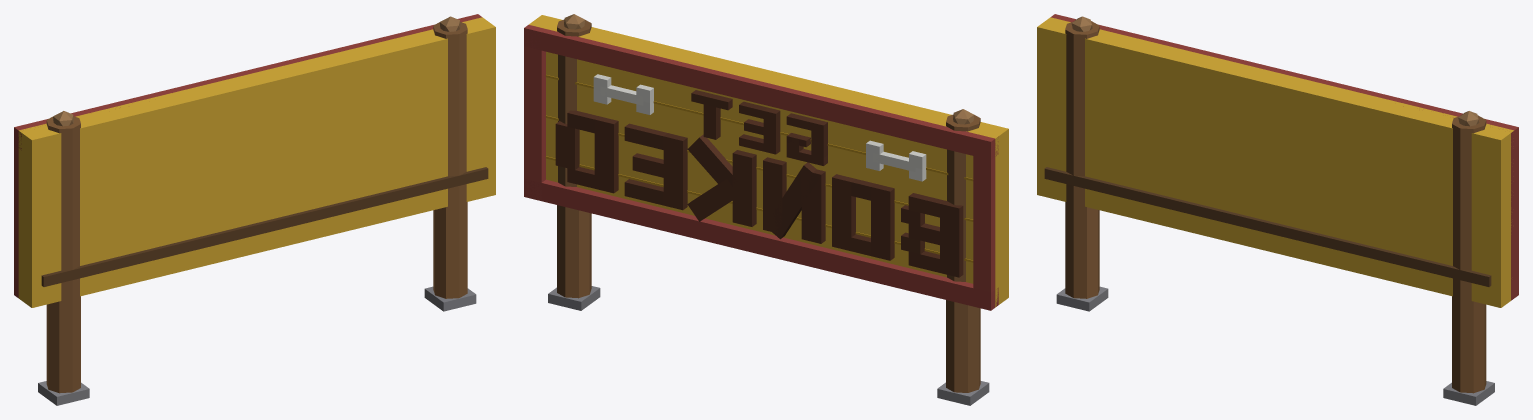
Rendered from Decor_LittleHouse_BonkedSign.fbx.
The picture shows the model from 3 angles, left to right: view 1: azimuth 30°, elevation 25°; view 2: azimuth 150°, elevation 25°; view 3: azimuth 330°, elevation 25°; orthographic projection.
Parts seen in each view (by area): view 1: BonkedSign_Board, BonkedSign_Body; view 2: BonkedSign_Body, BonkedSign_Board, BonkedSign_Text; view 3: BonkedSign_Board, BonkedSign_Body.
Part boxes in pixels (x1=…): BonkedSign_Board: x1=18, y1=17, x2=495, y2=307; BonkedSign_Body: x1=14, y1=14, x2=488, y2=405; BonkedSign_Body: x1=524, y1=14, x2=998, y2=405; BonkedSign_Board: x1=529, y1=15, x2=1008, y2=307; BonkedSign_Text: x1=555, y1=74, x2=963, y2=277; BonkedSign_Board: x1=1037, y1=17, x2=1513, y2=307; BonkedSign_Body: x1=1044, y1=14, x2=1518, y2=405.
Bounding box in the file's own units: 24 × 14.05 × 1.85.
